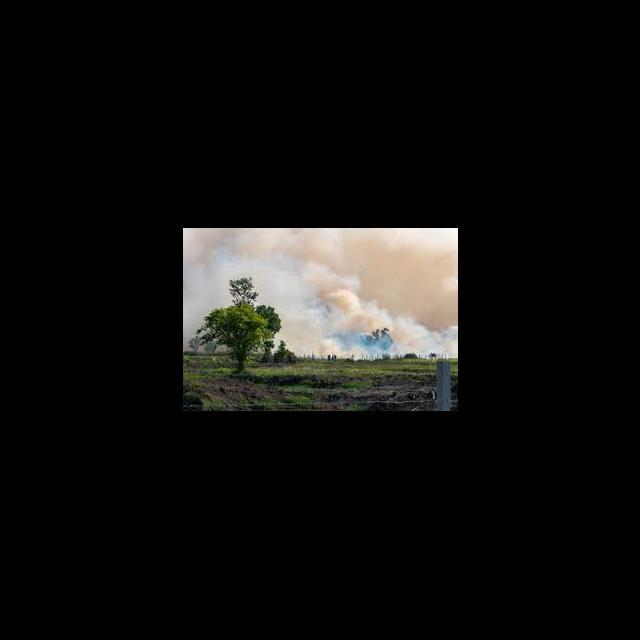Smoke: (182, 229, 458, 353)
